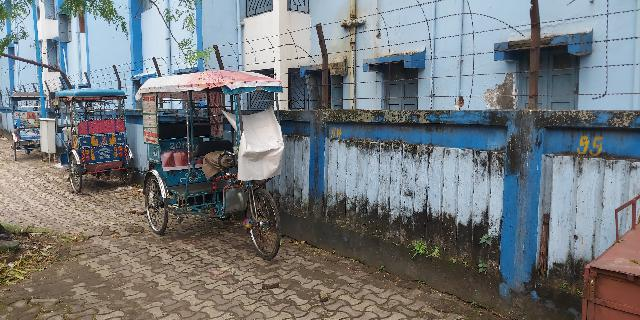Rickshaw: (139, 79, 289, 253), (53, 87, 130, 188), (13, 90, 41, 166)
